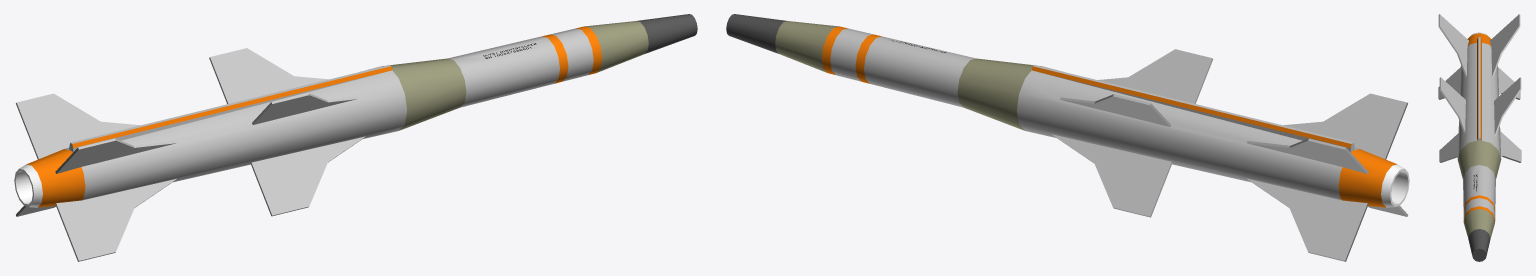
The model's file is missile.fbx.
The picture shows the model from 3 angles, left to right: view 1: azimuth 30°, elevation 25°; view 2: azimuth 150°, elevation 25°; view 3: azimuth 270°, elevation 25°; orthographic projection. The views are drawn at different scales.
Visible parts, largest first — view 1: Group1; view 2: Group1; view 3: Group1.
Boxes of the visible parts, x1=… form: Group1: x1=14, y1=14, x2=697, y2=261; Group1: x1=726, y1=14, x2=1409, y2=261; Group1: x1=1438, y1=14, x2=1521, y2=261.
Size of the model in its own units: 94.77 by 15.87 by 15.73.
